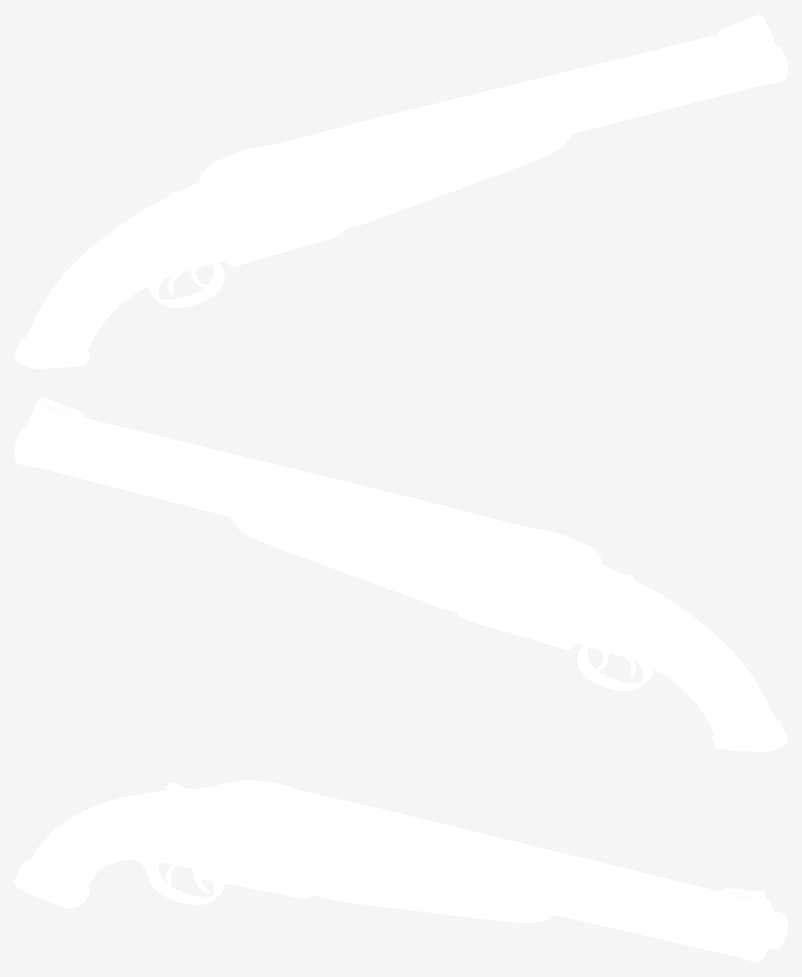
File: Mid_Scatter.glb
3 views of the same model, one above another, from view 1: azimuth 30°, elevation 25°; view 2: azimuth 150°, elevation 25°; view 3: azimuth 330°, elevation 25° (orthographic).
Visible parts, largest first — view 1: ShotgunLow.004_SciFiShotgun_0; view 2: ShotgunLow.004_SciFiShotgun_0; view 3: ShotgunLow.004_SciFiShotgun_0.
Part boxes in pixels (<box>): ShotgunLow.004_SciFiShotgun_0: <box>14,14,787,368</box>; ShotgunLow.004_SciFiShotgun_0: <box>14,397,787,751</box>; ShotgunLow.004_SciFiShotgun_0: <box>14,780,787,962</box>.
Size of the model in its own units: 0.6808 by 0.1529 by 0.0712.
1 material, 1 textured.
